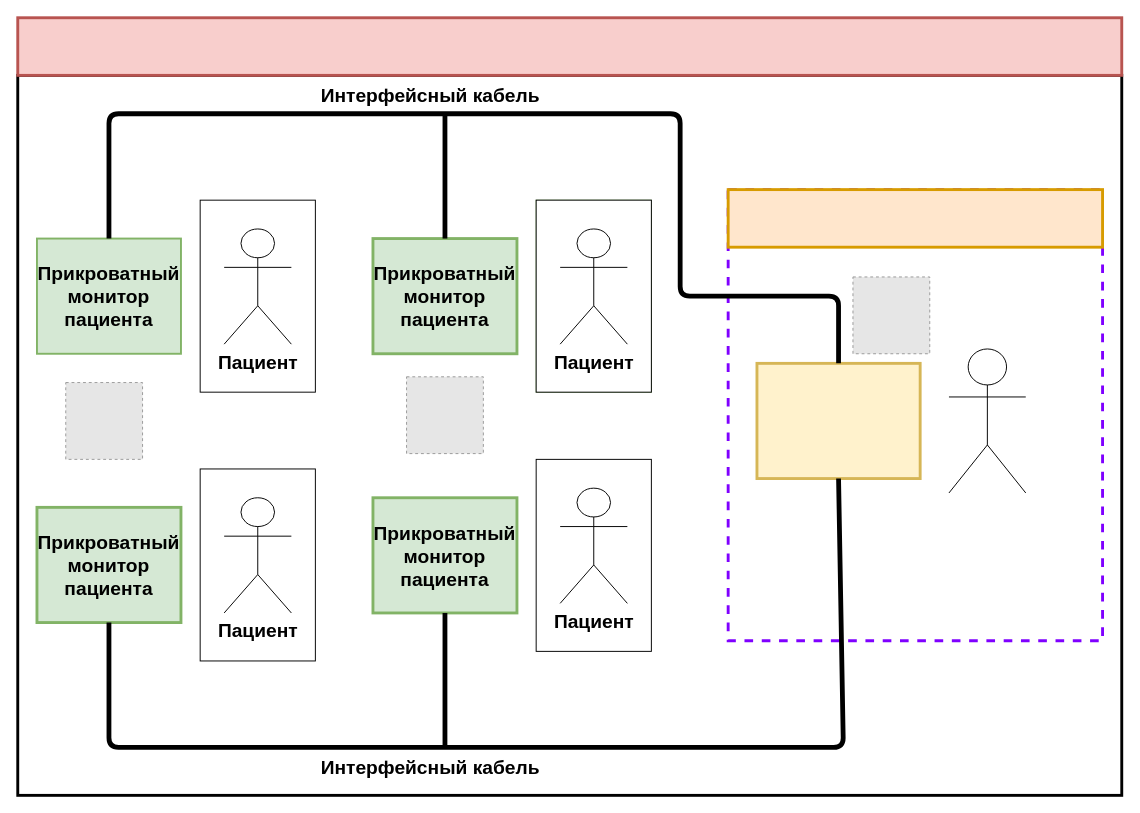
Some shapes in this 1140 by 813 pixel diagram are drawn without their labels. Grey dashed boxes stand in for pictures. Here are the shapes that lost their labels. From the top down, the centre of each, then its label:
(569,46): Палата интенсивной терапии
(915,218): Пост дежурного
(838,420): Центральная мониторная станция
(987,420): Дежурный
